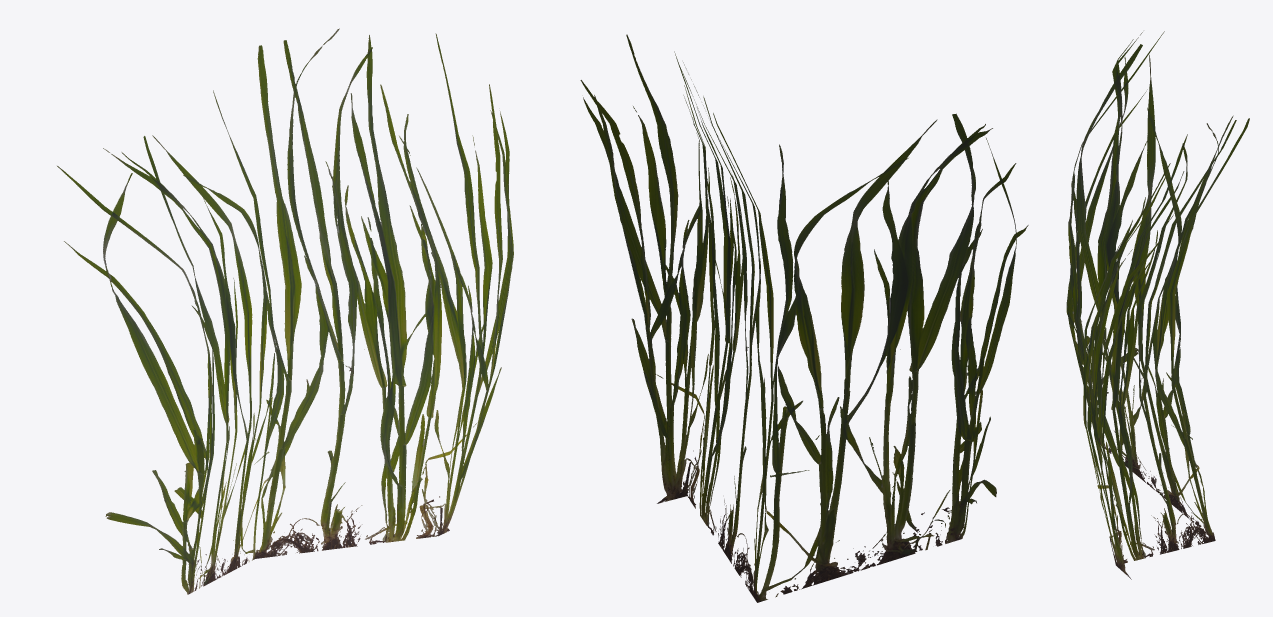
Rendered from MOD_CropTallGrassA.fbx.
3 renders of one model, left to right at view 1: azimuth 30°, elevation 25°; view 2: azimuth 150°, elevation 25°; view 3: azimuth 270°, elevation 25°, orthographic. The views are drawn at different scales.
Parts seen in each view (by area): view 1: MOD_CropTallGrassA; view 2: MOD_CropTallGrassA; view 3: MOD_CropTallGrassA.
Part boxes in pixels (bbox=[...]): MOD_CropTallGrassA: bbox=[57, 28, 513, 594]; MOD_CropTallGrassA: bbox=[580, 34, 1028, 602]; MOD_CropTallGrassA: bbox=[1066, 31, 1249, 579].
Bounding box in the file's own units: 31.02 × 32.24 × 12.12.
Materials: 1 (1 with a texture image).
